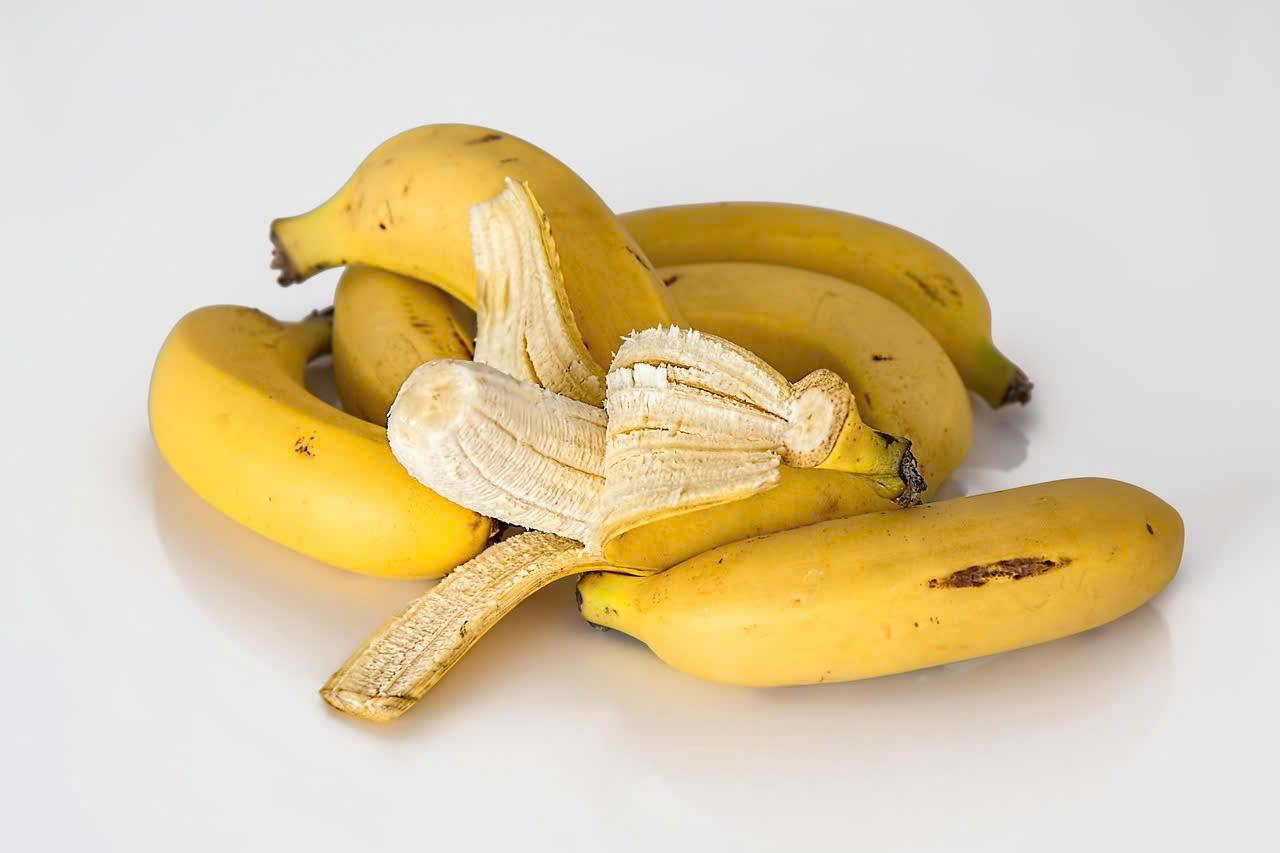banana: (590, 458, 1200, 690), (614, 176, 1035, 445), (320, 320, 741, 561)
